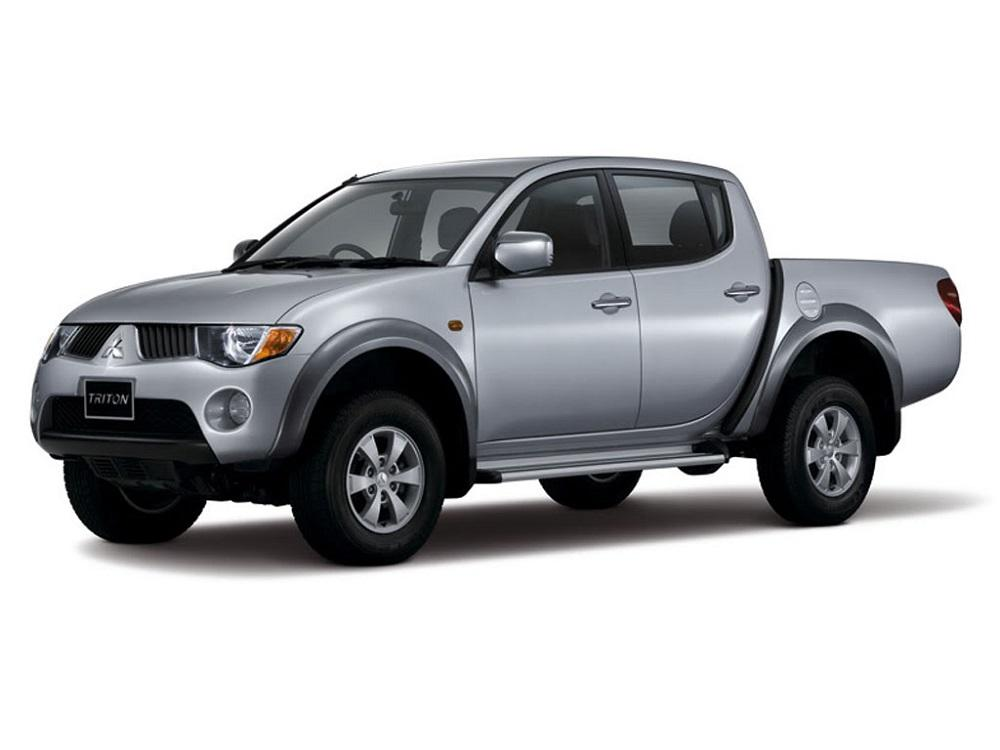pickup: (28, 149, 969, 568)
